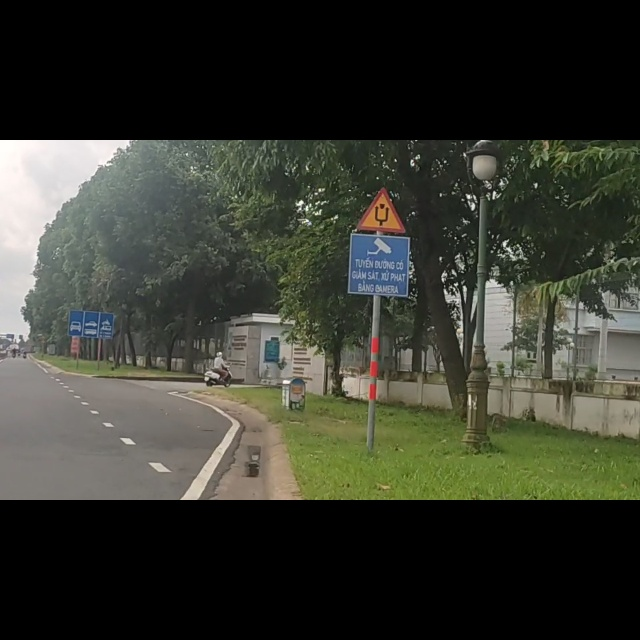bien_chi_dan: (354, 79, 408, 168), (67, 300, 115, 357)
